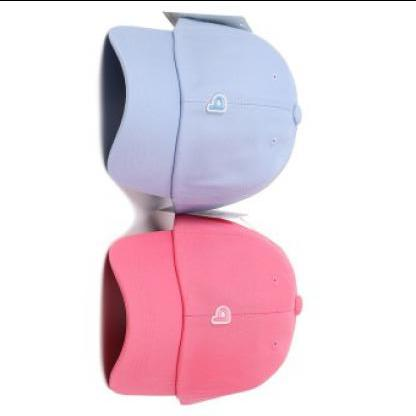cap: (92, 9, 308, 220)
